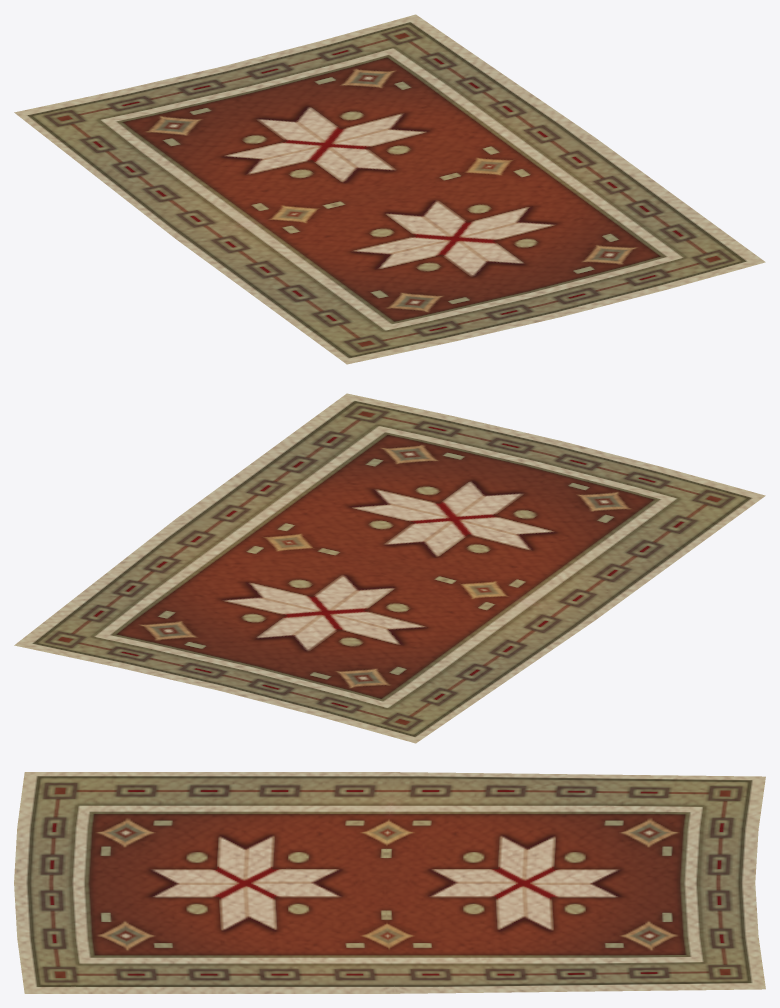
Rendered from Tapestry_Patchwork.fbx.
3 views of the same model, one above another, from view 1: azimuth 30°, elevation 25°; view 2: azimuth 150°, elevation 25°; view 3: azimuth 270°, elevation 25° (orthographic). The views are drawn at different scales.
Parts seen in each view (by area): view 1: Tapestry_Patchwork; view 2: Tapestry_Patchwork; view 3: Tapestry_Patchwork.
Boxes of the visible parts, x1,y1,x2,y2 form: Tapestry_Patchwork: (14,14,765,364); Tapestry_Patchwork: (14,393,765,743); Tapestry_Patchwork: (14,772,765,993).
Bounding box in the file's own units: 13.26 × 5.38e-15 × 18.99.
